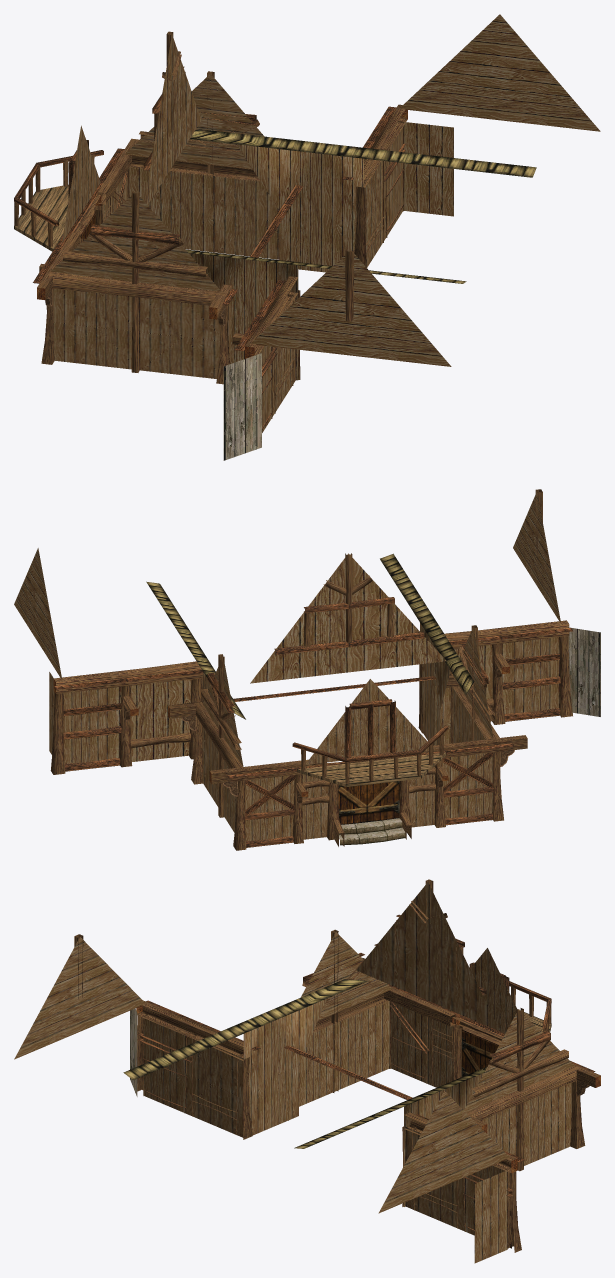
The model's file is LAKETOWN_EXTERIOR_PS_LT_TOWNHALL978__GX.fbx.
3 renders of one model, top to bottom at view 1: azimuth 30°, elevation 25°; view 2: azimuth 150°, elevation 25°; view 3: azimuth 270°, elevation 25°, orthographic. The views are drawn at different scales.
Parts seen in each view (by area): view 1: LAKETOWN_EXTERIOR_PS_LT_TOWNHALL978__GX; view 2: LAKETOWN_EXTERIOR_PS_LT_TOWNHALL978__GX; view 3: LAKETOWN_EXTERIOR_PS_LT_TOWNHALL978__GX.
Boxes of the visible parts, x1,y1,x2,y2 form: LAKETOWN_EXTERIOR_PS_LT_TOWNHALL978__GX: [14, 14, 600, 460]; LAKETOWN_EXTERIOR_PS_LT_TOWNHALL978__GX: [14, 489, 600, 850]; LAKETOWN_EXTERIOR_PS_LT_TOWNHALL978__GX: [14, 879, 600, 1263].
Size of the model in its own units: 229026 by 107141 by 229026.
11 materials, 11 textured.
